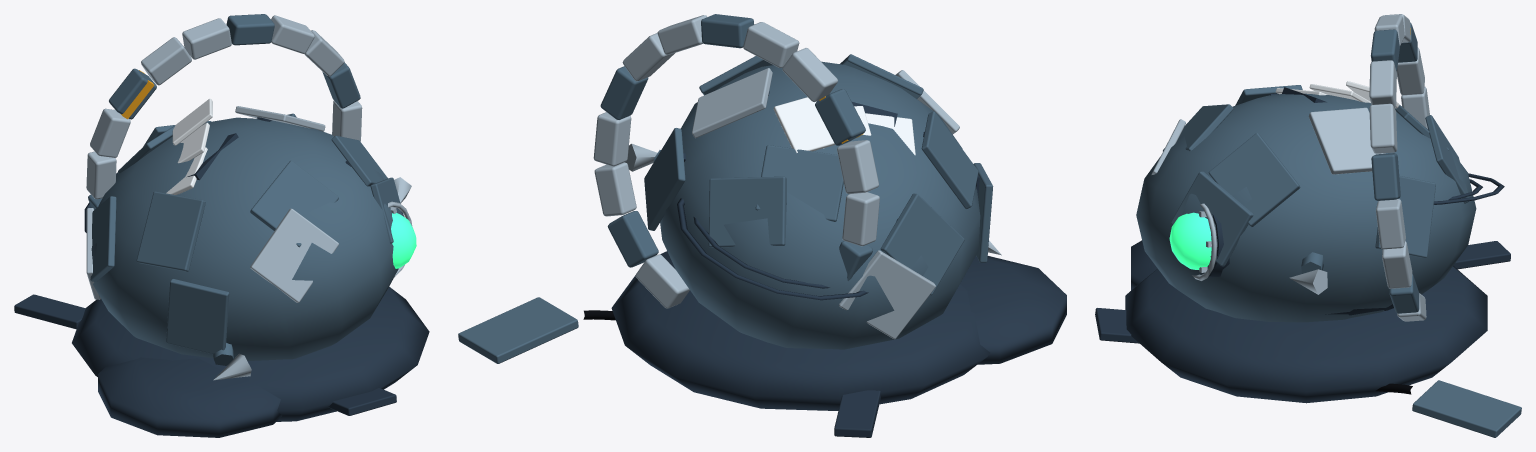
The model's file is alien_drone_wreck.glb.
3 views of the same model, side by side, from view 1: azimuth 30°, elevation 25°; view 2: azimuth 150°, elevation 25°; view 3: azimuth 270°, elevation 25° (orthographic). The views are drawn at different scales.
Parts seen in each view (by area): view 1: Hull, Soil, RingHoop, PeeledPlates, PortA, ArmL; view 2: Hull, Soil, RingHoop, PeeledPlates, ArmR; view 3: Hull, Soil, RingHoop, PortA, PeeledPlates, ArmR.
Part boxes in pixels (x1,y1,x2,y2): Hull: (84, 106, 403, 360); Soil: (14, 286, 429, 437); RingHoop: (86, 14, 362, 209); PeeledPlates: (166, 98, 238, 194); PortA: (388, 201, 416, 277); ArmL: (213, 343, 251, 380); Hull: (644, 54, 993, 349); Soil: (458, 251, 1066, 437); RingHoop: (593, 14, 879, 308); PeeledPlates: (773, 97, 915, 155); ArmR: (625, 143, 660, 171); Hull: (1136, 85, 1504, 322); Soil: (1095, 240, 1521, 437); RingHoop: (1369, 14, 1429, 321); PortA: (1169, 203, 1229, 280); PeeledPlates: (1275, 81, 1399, 108); ArmR: (1289, 252, 1327, 294).
Size of the model in its own units: 2.96 by 2.31 by 2.64.
